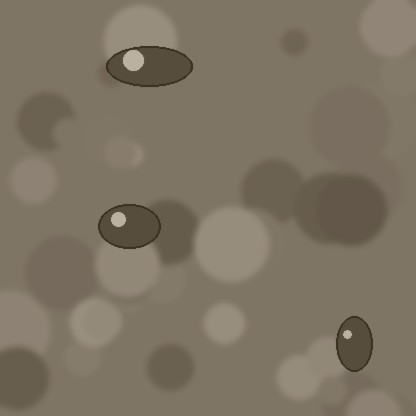gota: (106, 48, 192, 90), (98, 206, 160, 252), (336, 318, 372, 376)
